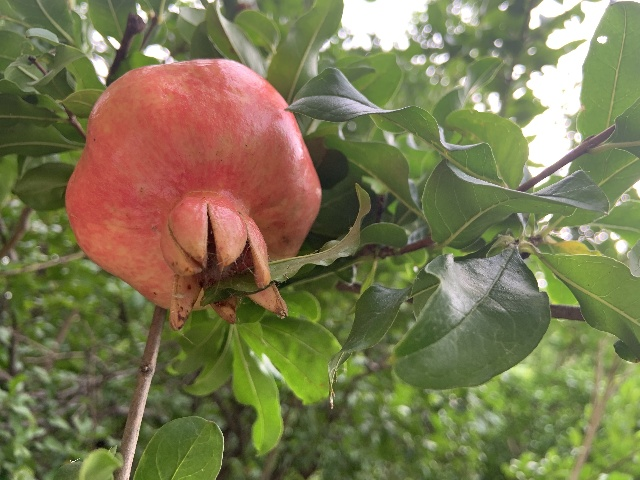ripe: (63, 60, 323, 328)
